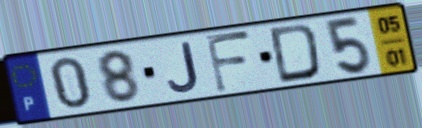0: (47, 55, 95, 111)
5: (320, 13, 376, 77)
8: (93, 48, 144, 105)
D: (267, 21, 324, 86)
F: (203, 29, 255, 95)
J: (165, 39, 203, 95)
